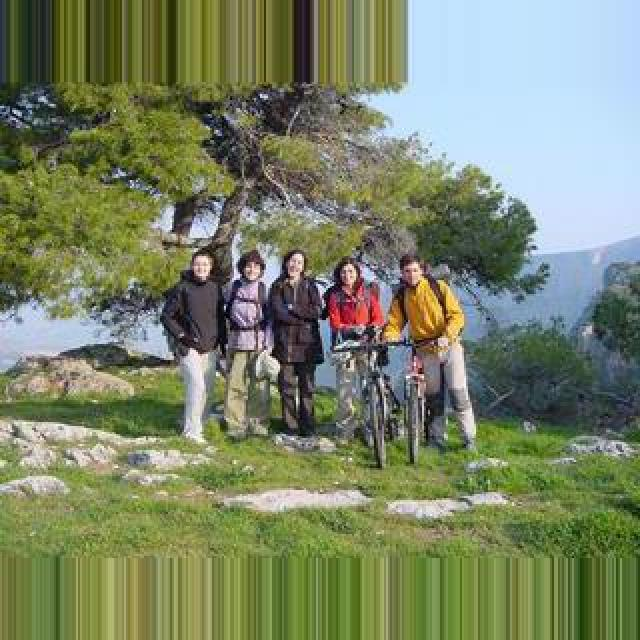MC-Bike: (382, 254, 478, 454), (324, 258, 390, 448), (160, 250, 226, 438), (264, 248, 326, 446), (218, 252, 272, 438)
Person: (332, 334, 404, 470), (402, 352, 428, 466)
